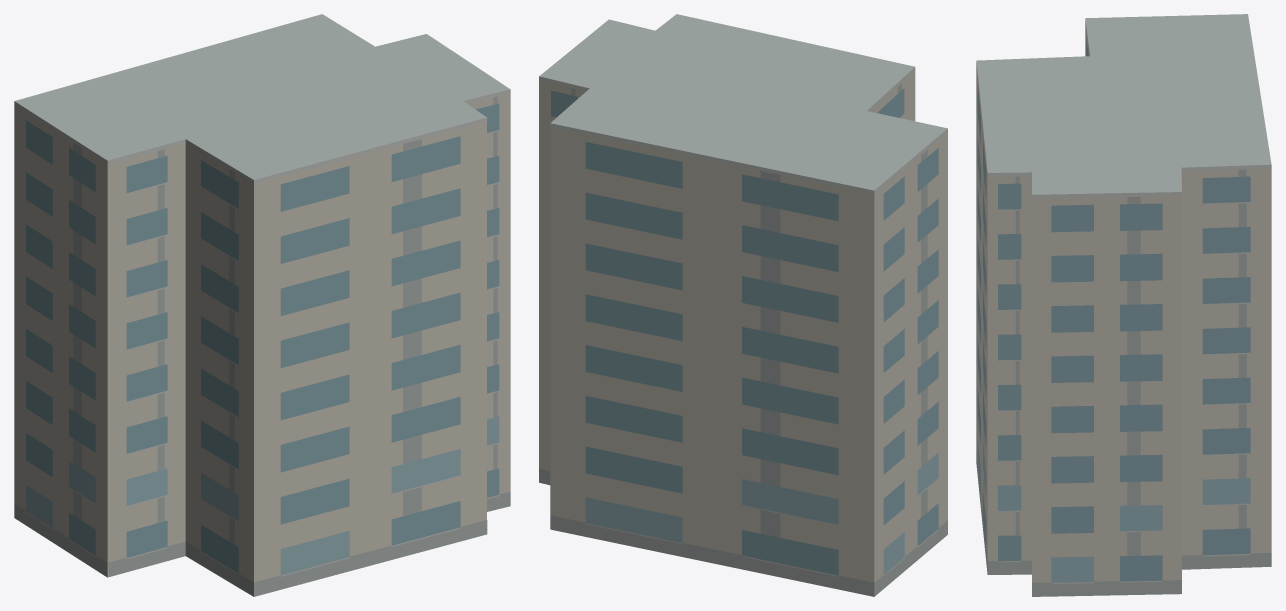
File: survey-upis-33020774.glb
3 renders of one model, left to right at view 1: azimuth 30°, elevation 25°; view 2: azimuth 150°, elevation 25°; view 3: azimuth 270°, elevation 25°, orthographic. The views are drawn at different scales.
Parts seen in each view (by area): view 1: survey-upis-33020774.tmp; view 2: survey-upis-33020774.tmp; view 3: survey-upis-33020774.tmp.
Boxes of the visible parts, <box> form: survey-upis-33020774.tmp: <box>14,14,510,596</box>; survey-upis-33020774.tmp: <box>539,14,947,596</box>; survey-upis-33020774.tmp: <box>976,14,1271,596</box>.
Size of the model in its own units: 23.54 by 24.4 by 16.24.
